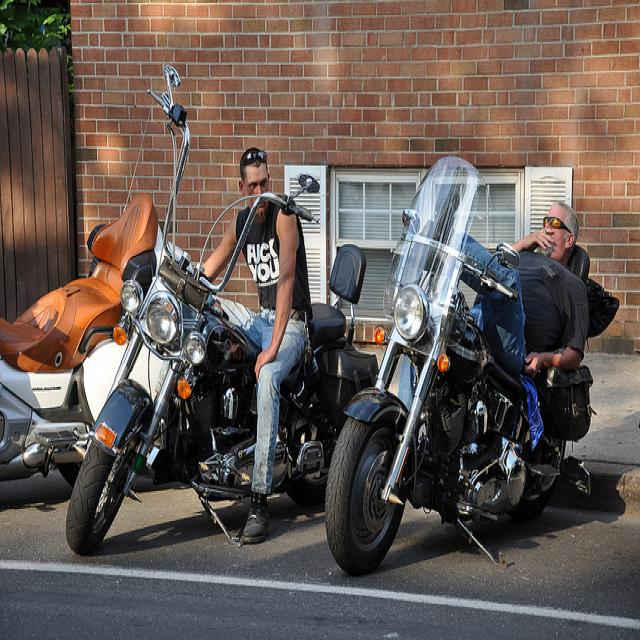motor: (75, 84, 374, 547), (330, 154, 599, 572), (3, 196, 164, 488)
